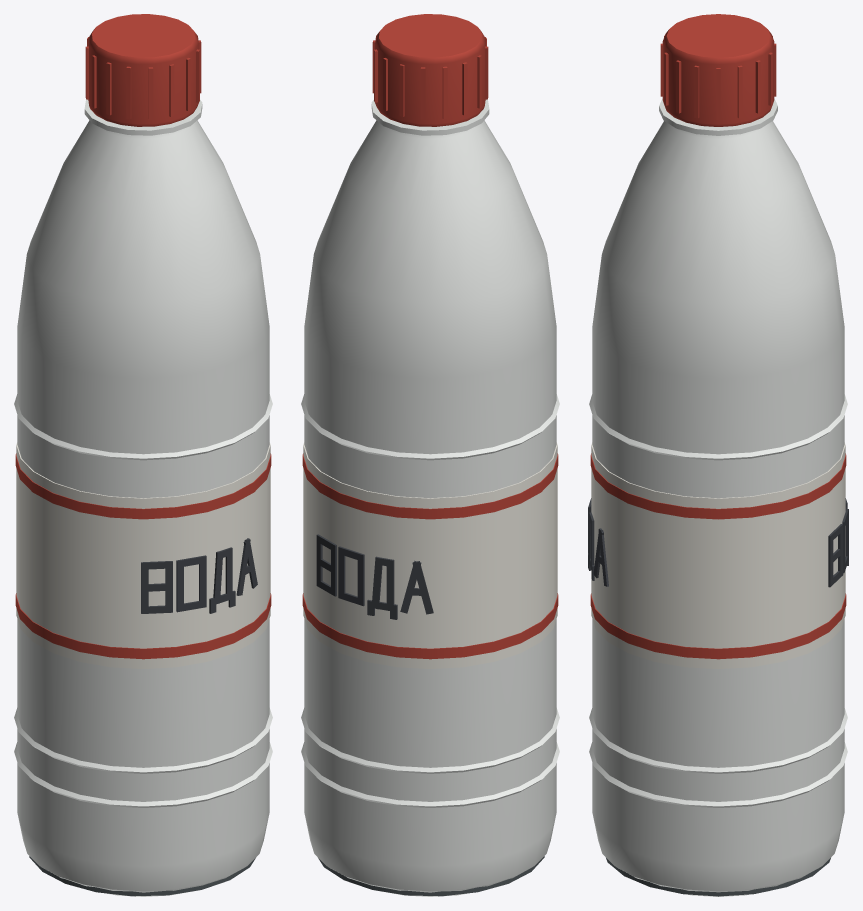
File: water_bottle.glb
The picture shows the model from 3 angles, left to right: view 1: azimuth 30°, elevation 25°; view 2: azimuth 150°, elevation 25°; view 3: azimuth 270°, elevation 25°; orthographic projection.
Parts seen in each view (by area): view 1: body; view 2: body; view 3: body.
Part boxes in pixels (x1=…): body: x1=14, y1=14, x2=272, y2=896; body: x1=301, y1=14, x2=559, y2=896; body: x1=588, y1=14, x2=848, y2=896.
Size of the model in its own units: 0.0688 by 0.24 by 0.0693.
